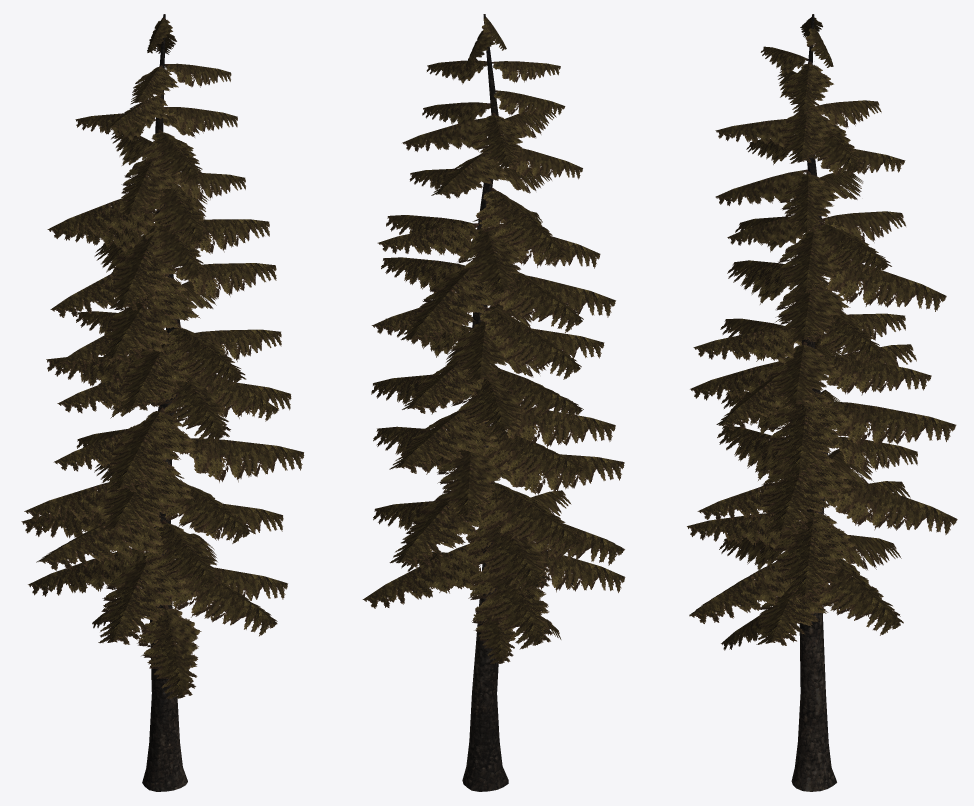
The model's file is tree_10.obj.
3 renders of one model, left to right at view 1: azimuth 30°, elevation 25°; view 2: azimuth 150°, elevation 25°; view 3: azimuth 270°, elevation 25°, orthographic.
Parts seen in each view (by area): view 1: tree_10_branches, tree_10; view 2: tree_10_branches, tree_10; view 3: tree_10_branches, tree_10.
Part boxes in pixels (x1,y1,x2,y2): tree_10_branches: (21,17,304,698); tree_10: (142,14,187,791); tree_10_branches: (362,17,625,663); tree_10: (462,14,508,791); tree_10_branches: (687,17,957,650); tree_10: (791,14,836,791).
Size of the model in its own units: 3.7 by 10.11 by 3.42.
